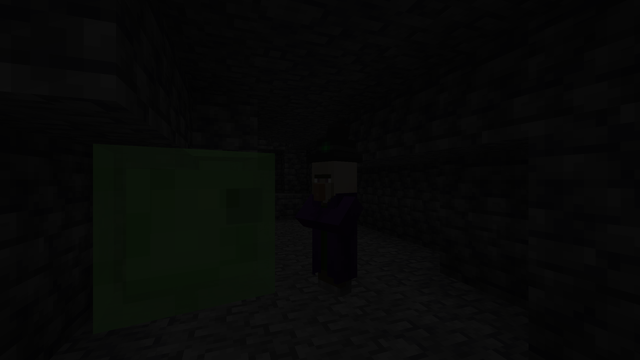slimes: (95, 141, 269, 322)
sorcieres: (308, 155, 361, 301)
